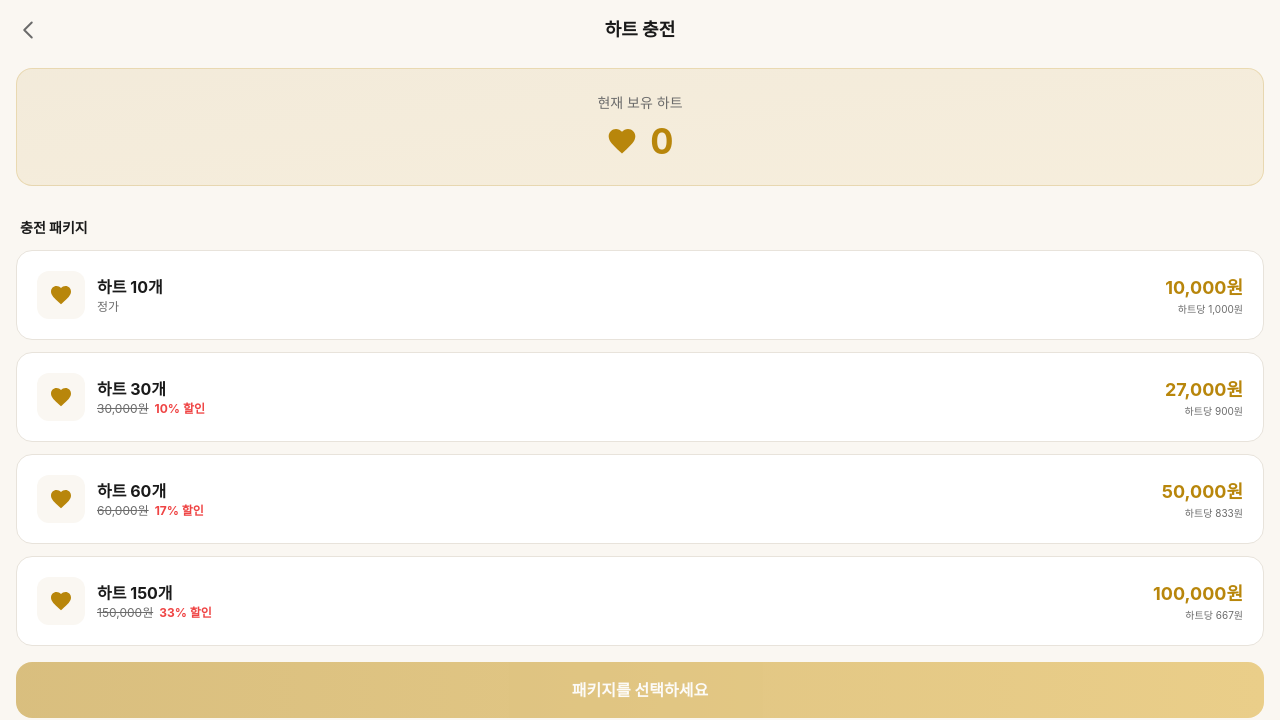
Test: TOSS-W 예약 선행 › TOSS-W13 경합: 명시 거절 marker는 current 204와 원 P 404가 모두 본인 확인되면 제거한다
What coordinates should you click on to do the following:
click the heading "하트 10개"
I would click on:
 (130, 287)
Its box is [97, 275, 163, 299].
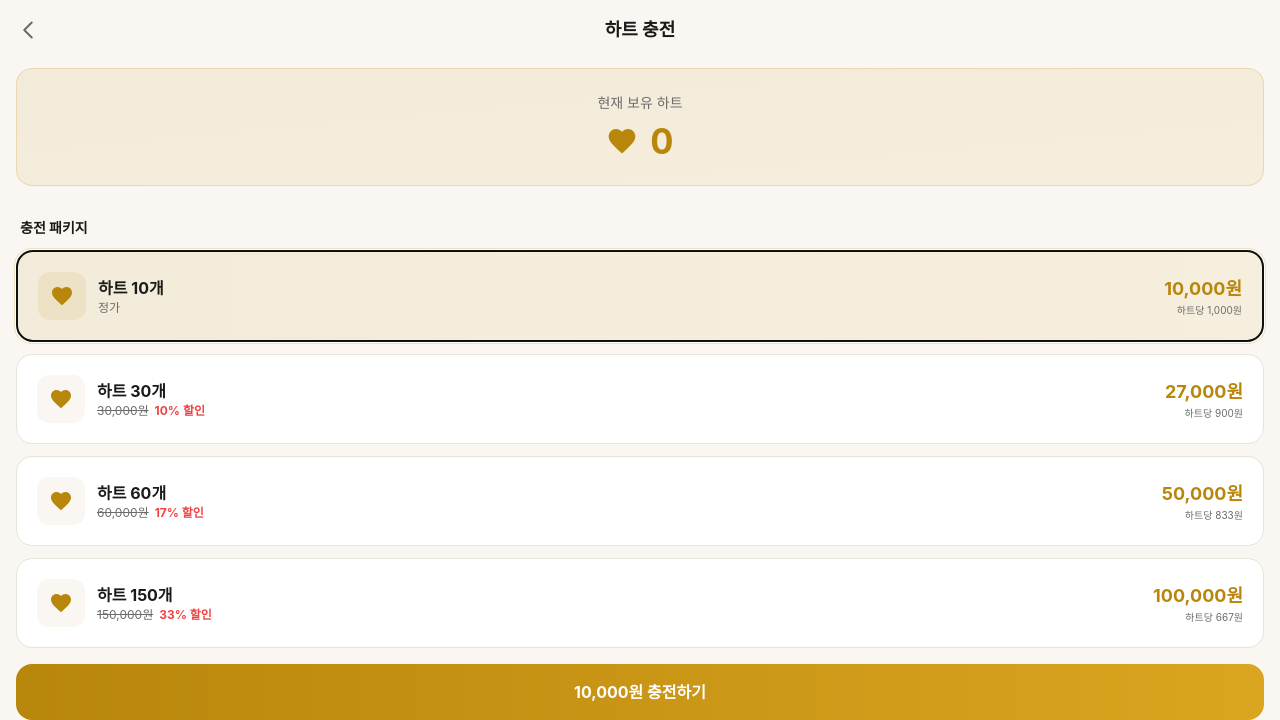
Result: the button "10,000원 충전하기" is enabled at [16, 664, 1264, 719]
